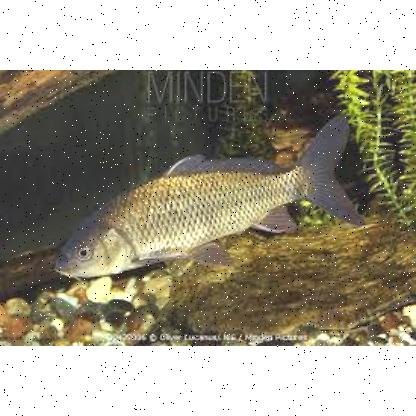ikan-mas: (54, 111, 352, 283)
